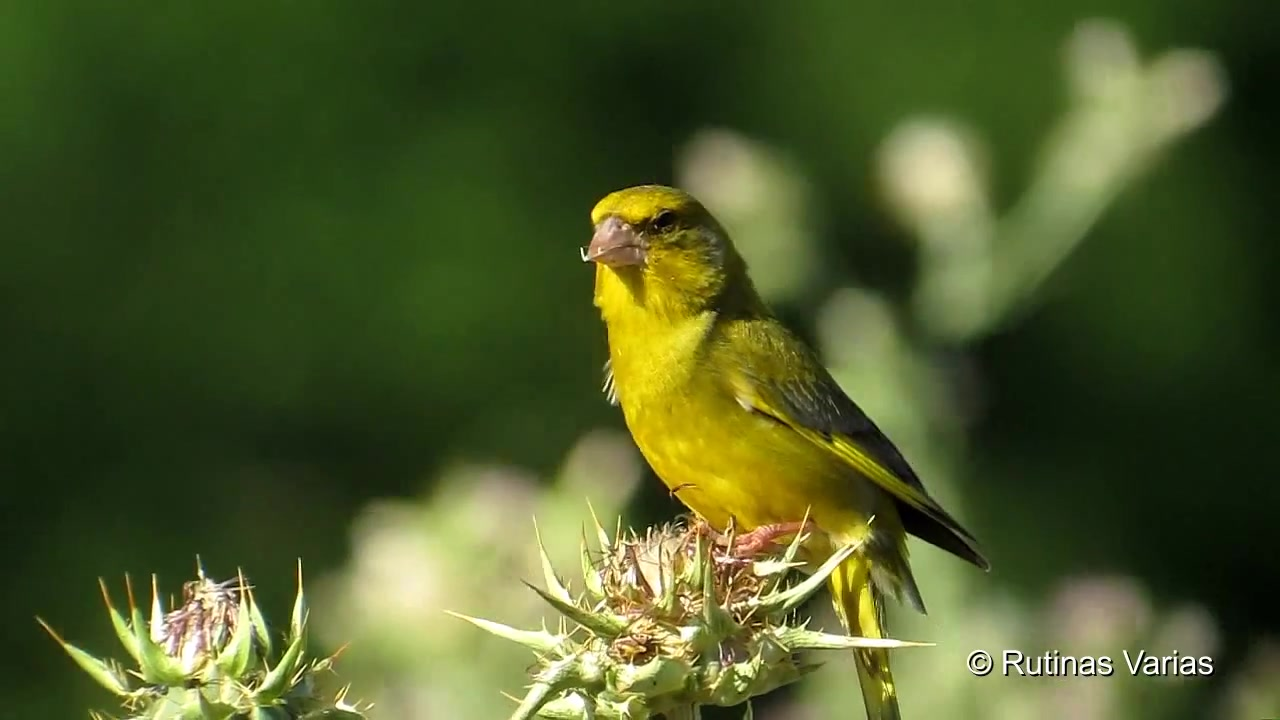bird: (579, 185, 993, 719)
